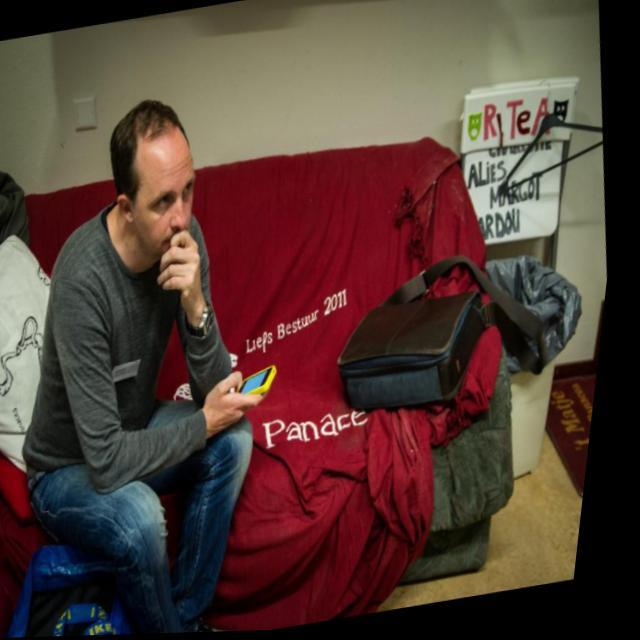Nonhelmet: (103, 95, 202, 266)
